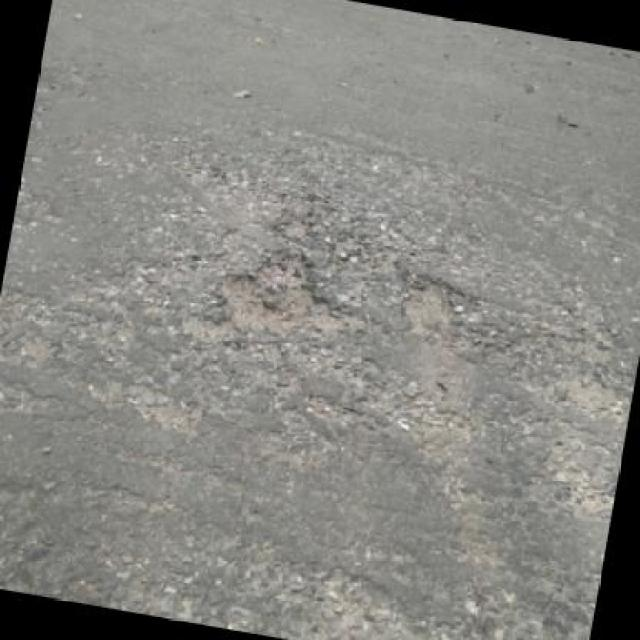pothole1: (204, 238, 350, 340), (390, 272, 461, 340)
